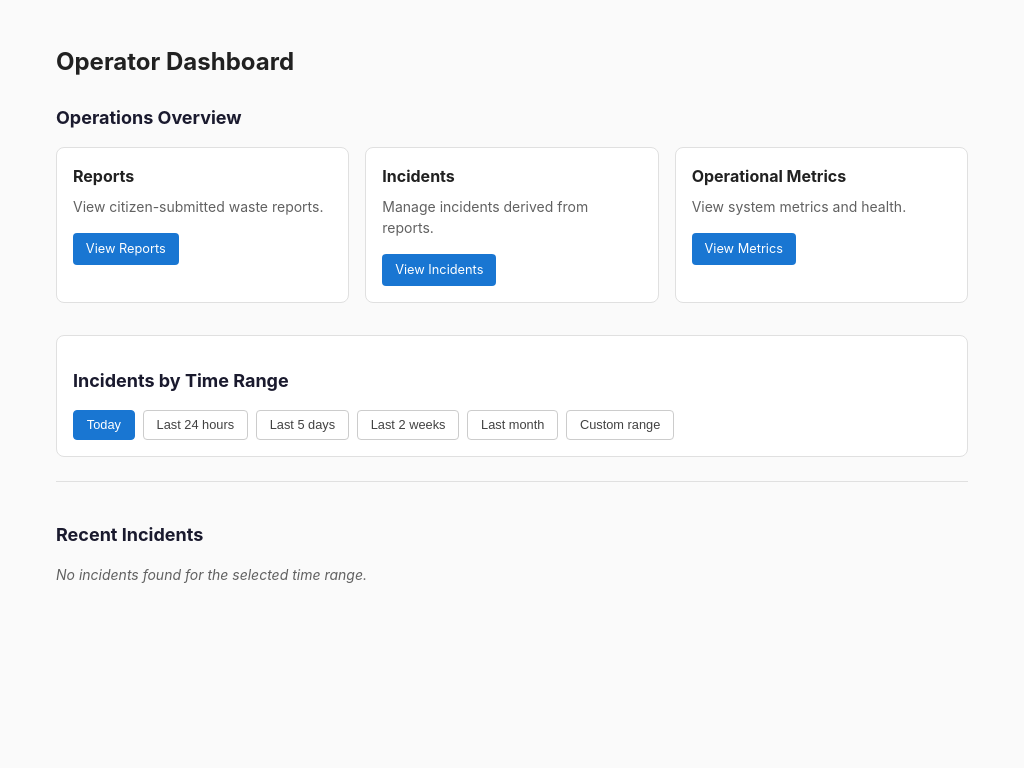
Scenario: OperatorDashboardComponent › should show custom range inputs when Custom range selected
Click the button with class "btn-preset" showing "Custom range": (620, 425) [566,410,674,440]
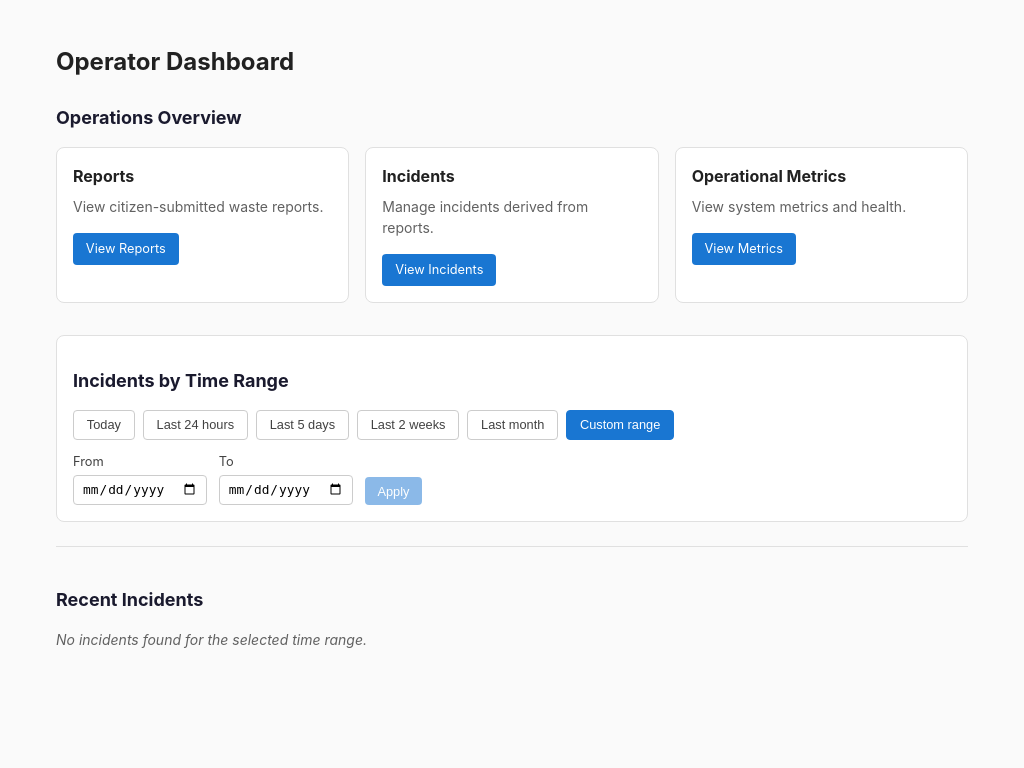
Check: the element with class "custom-range" is shown, box [73,454,422,505]
Check: the date field with class "date-input" showing "From" is shown, box [73,475,207,505]
